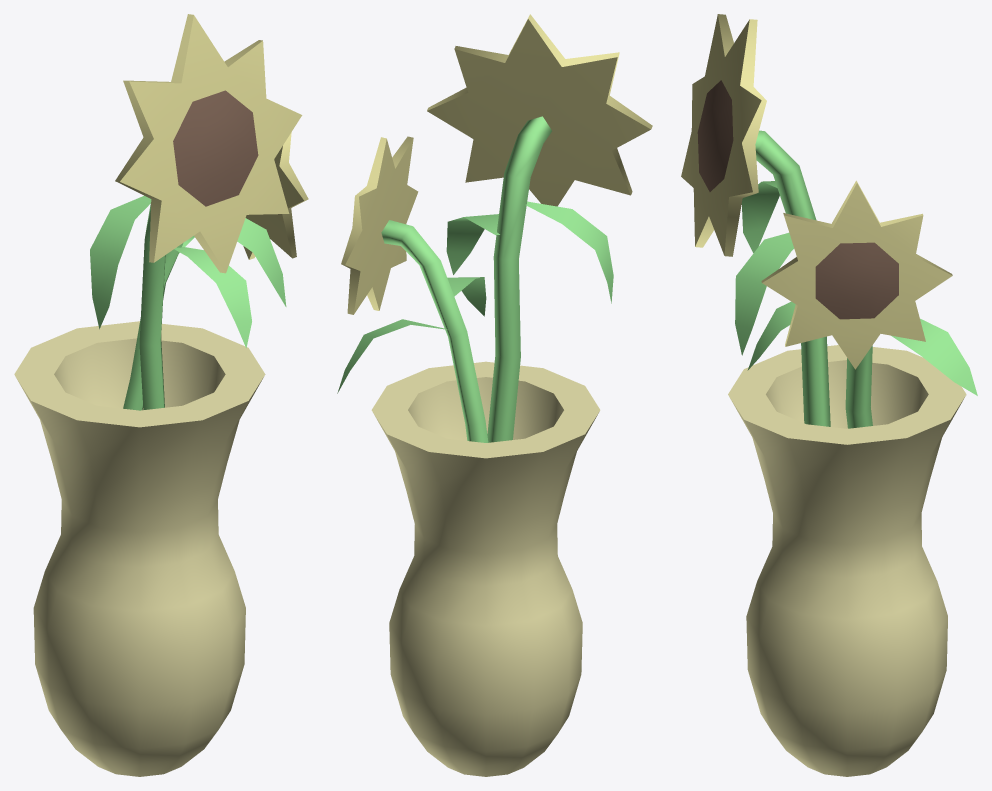
File: vase.fbx
3 views of the same model, side by side, from view 1: azimuth 30°, elevation 25°; view 2: azimuth 150°, elevation 25°; view 3: azimuth 270°, elevation 25° (orthographic). The views are drawn at different scales.
Parts seen in each view (by area): view 1: Circle, Cube; view 2: Circle, Cube; view 3: Circle, Cube.
Part boxes in pixels (x1,y1,x2,y2): Circle: (14,321,265,776); Cube: (90,14,308,410); Circle: (371,361,600,776); Cube: (337,14,652,442); Circle: (728,345,966,776); Cube: (681,14,977,428).
Bounding box in the file's own units: 163 × 519 × 189.
